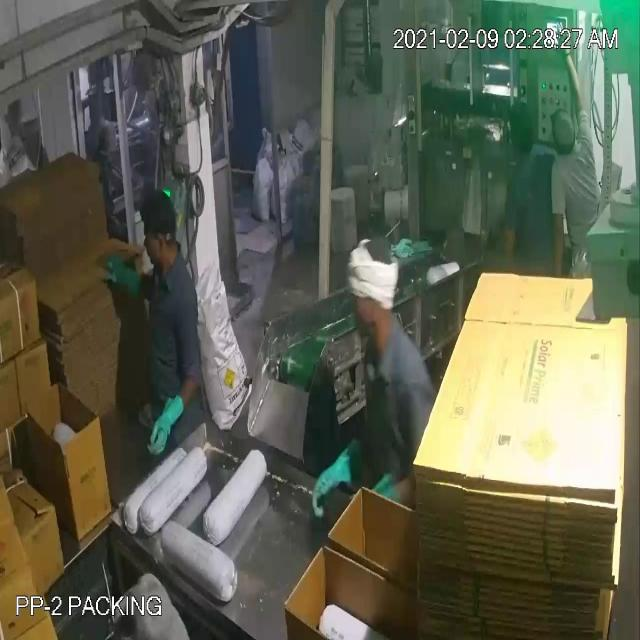gloves: (300, 442, 364, 518), (136, 381, 186, 458), (99, 244, 149, 310)
no-gloves: (558, 32, 586, 121), (549, 208, 573, 285)
